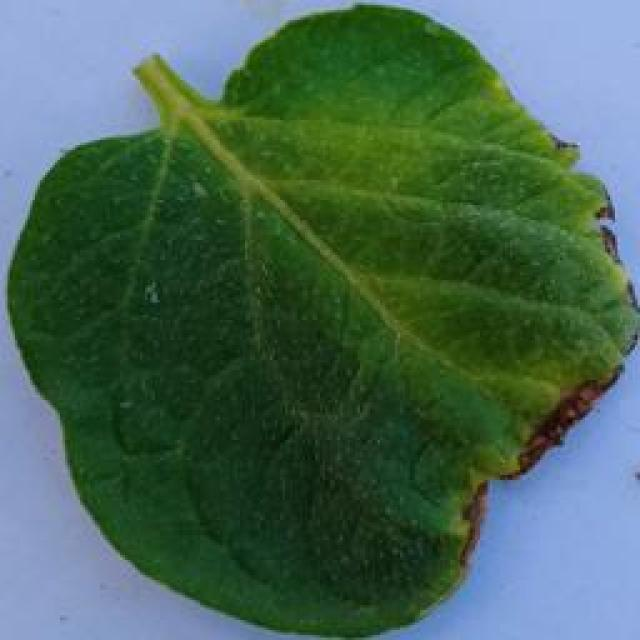Potato_Late_Blight: (15, 13, 640, 635)
